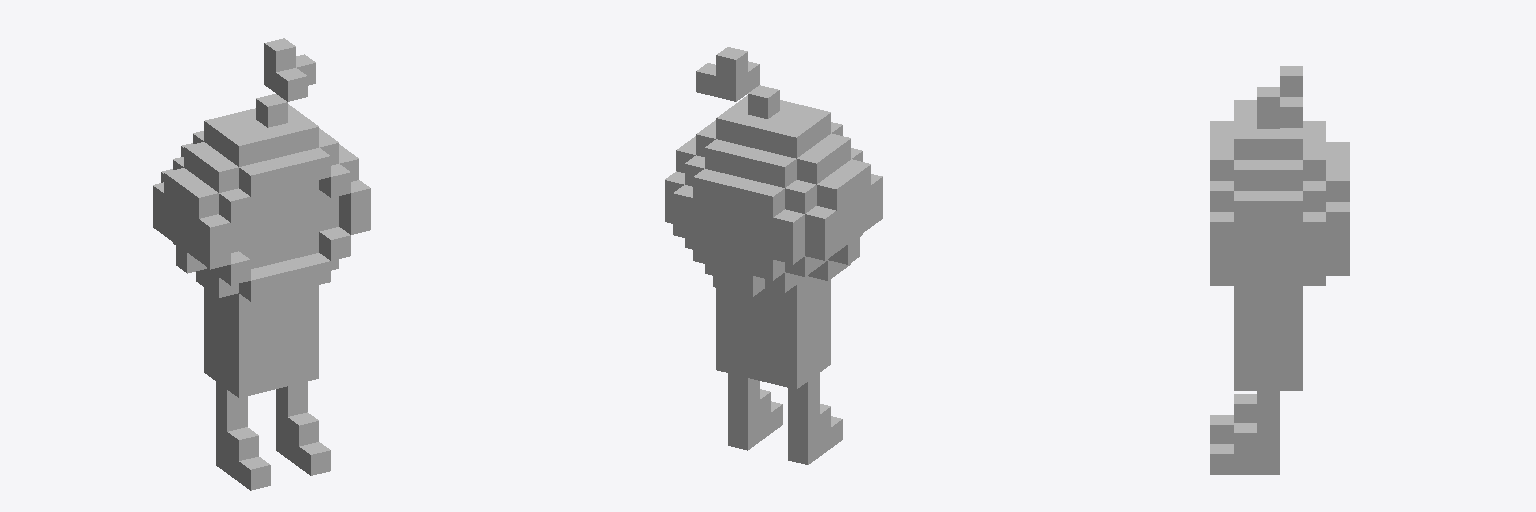
File: character.obj
3 views of the same model, side by side, from view 1: azimuth 30°, elevation 25°; view 2: azimuth 150°, elevation 25°; view 3: azimuth 270°, elevation 25° (orthographic).
Visible parts, largest first — view 1: blue1; view 2: blue1; view 3: blue1.
Boxes of the visible parts, x1=… form: blue1: x1=153, y1=38, x2=370, y2=490; blue1: x1=665, y1=47, x2=882, y2=464; blue1: x1=1210, y1=66, x2=1349, y2=474.
Bounding box in the file's own units: 8 × 19 × 6.